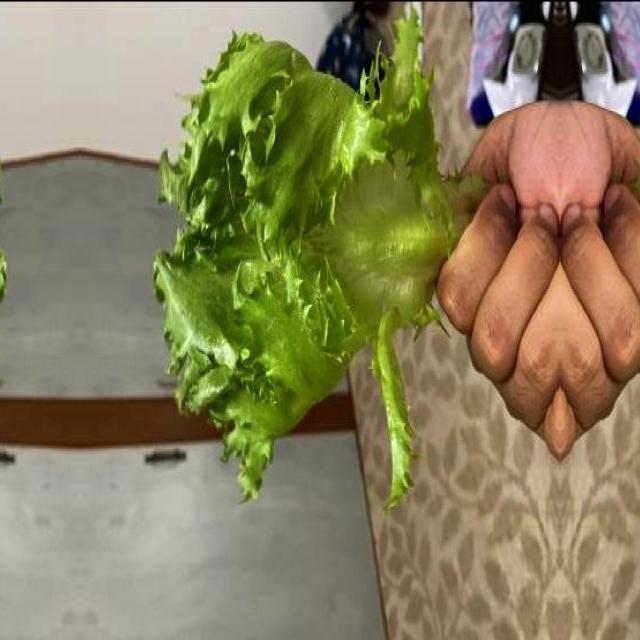healthy: (146, 8, 468, 502), (0, 8, 13, 502)
